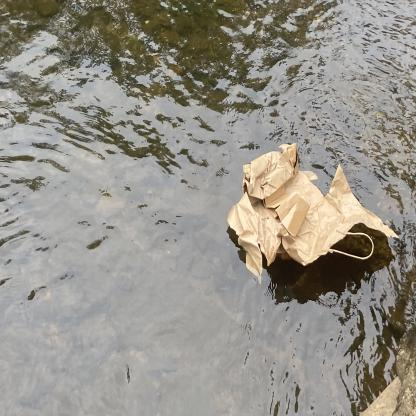trash: (212, 132, 403, 289)
